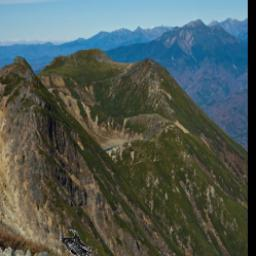Crow: (60, 229, 93, 256)
